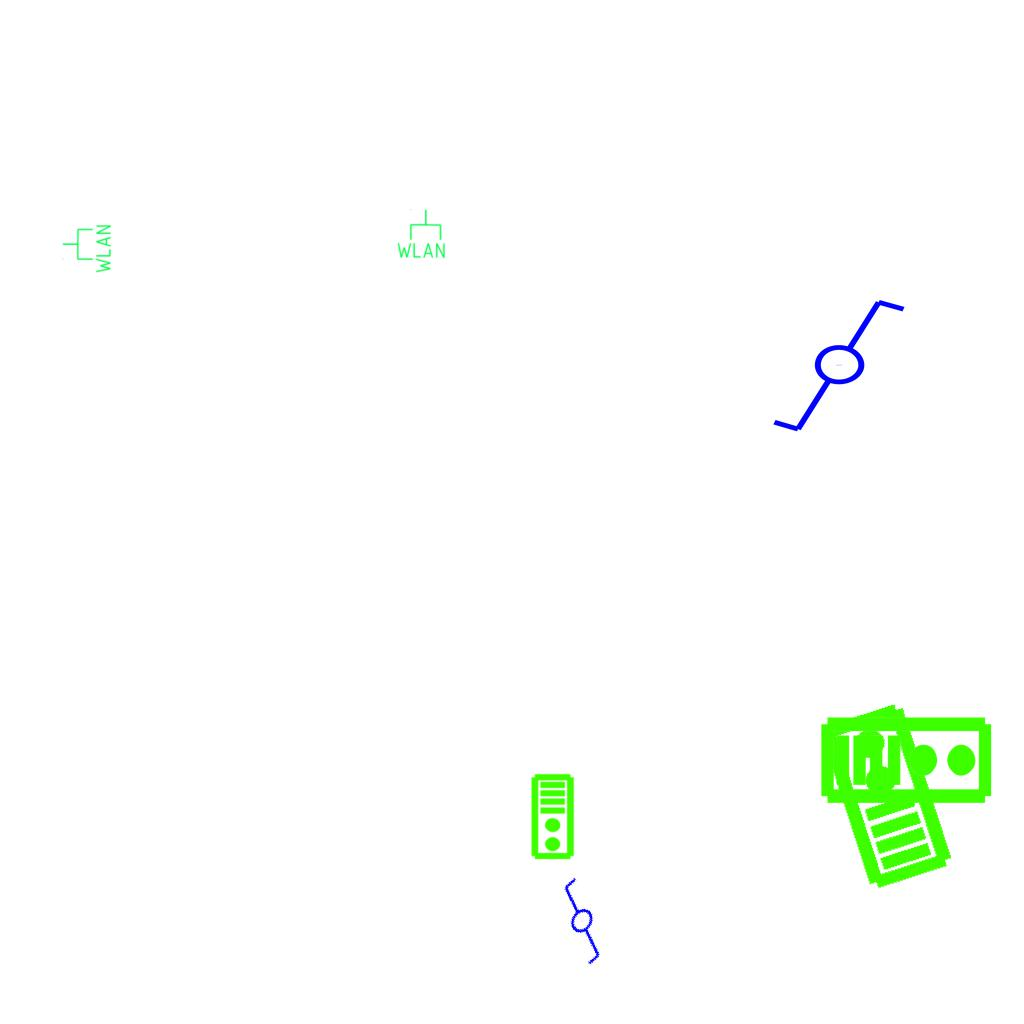Gegensprechanlage_mit_Video: (812, 697, 957, 895), (819, 711, 995, 806), (530, 773, 577, 861)
WLAN: (395, 208, 447, 260), (61, 223, 113, 275)
Wechselschalter: (769, 295, 926, 439), (533, 865, 637, 971)
